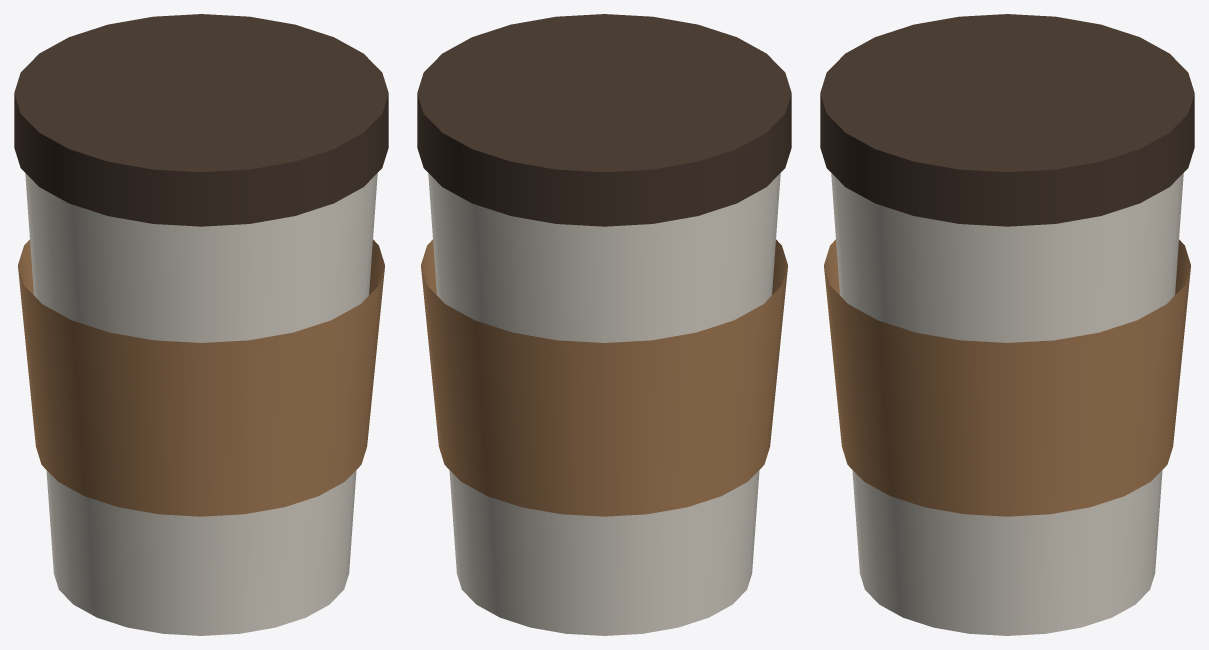
The model's file is june-coffee.glb.
3 renders of one model, left to right at view 1: azimuth 30°, elevation 25°; view 2: azimuth 150°, elevation 25°; view 3: azimuth 270°, elevation 25°, orthographic.
Parts seen in each view (by area): view 1: prop (×3); view 2: prop (×3); view 3: prop (×3).
Boxes of the visible parts, x1=… form: prop (×3): x1=14, y1=14, x2=388, y2=635; prop (×3): x1=417, y1=14, x2=791, y2=635; prop (×3): x1=820, y1=14, x2=1194, y2=635.
Size of the model in its own units: 0.0808 by 0.1144 by 0.0808.
